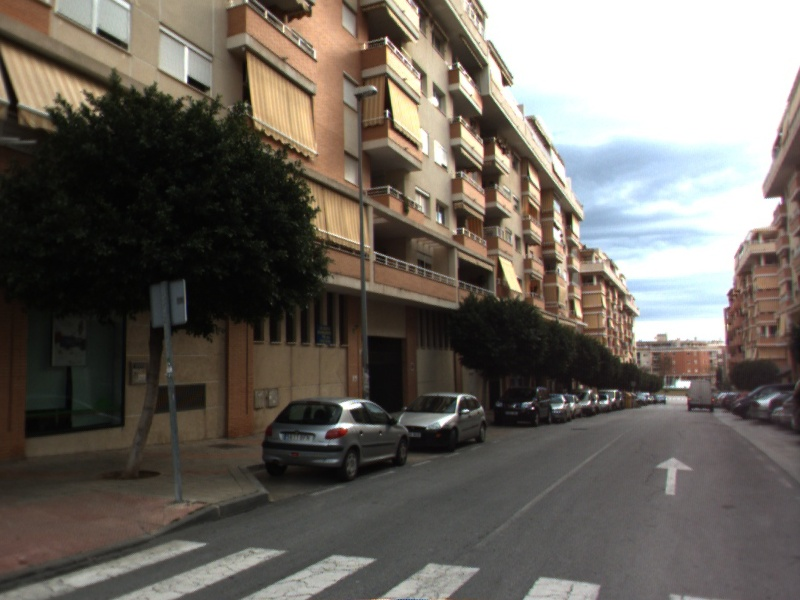STRAIGHT: (653, 455, 696, 497)
